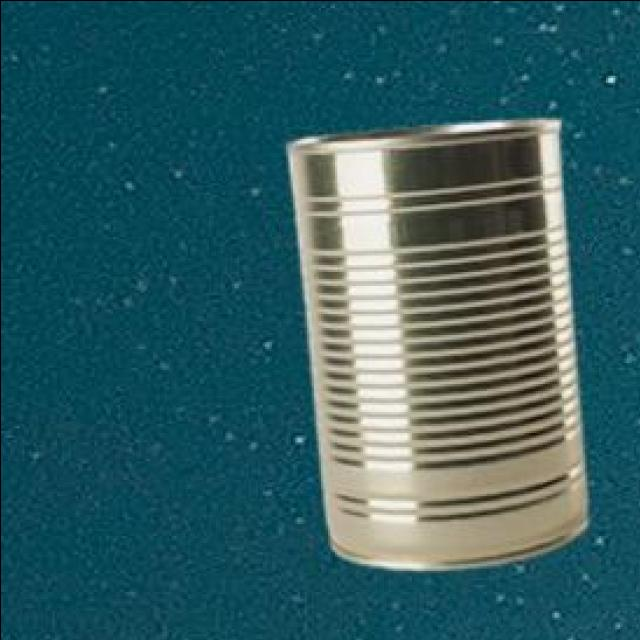logam: (291, 123, 590, 573)
